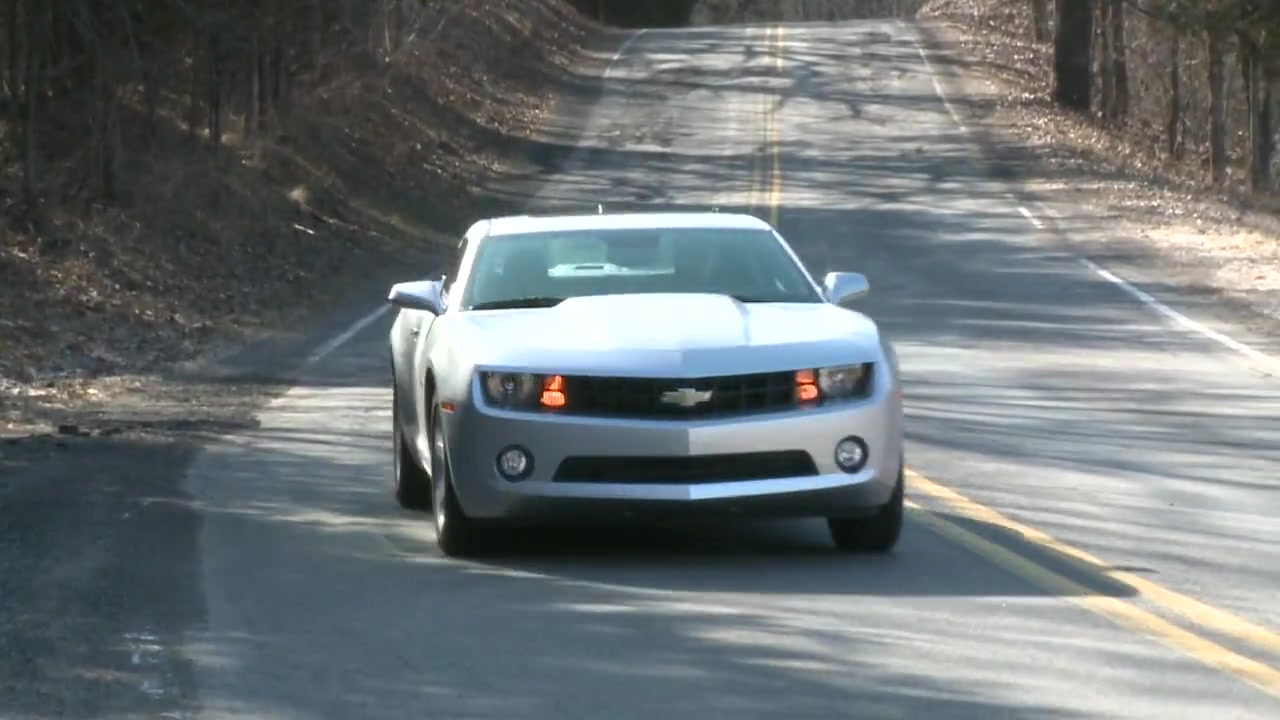car: (383, 210, 911, 562)
